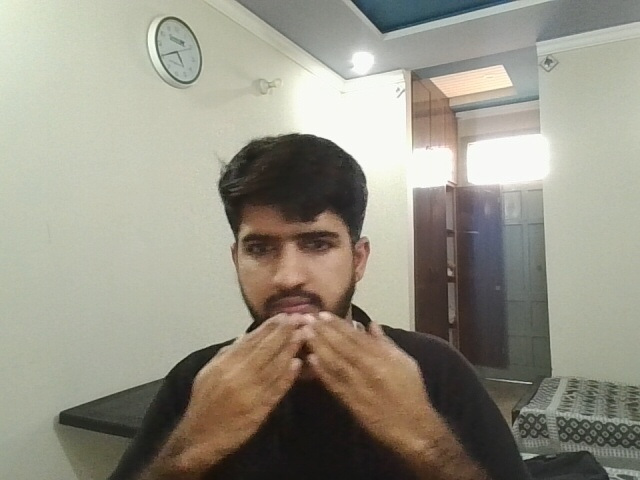Thanks: (111, 300, 490, 473)
